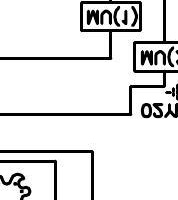MU: (79, 1, 143, 33)
